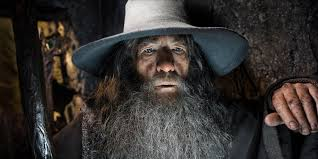gandalf grey: (68, 14, 312, 153)
